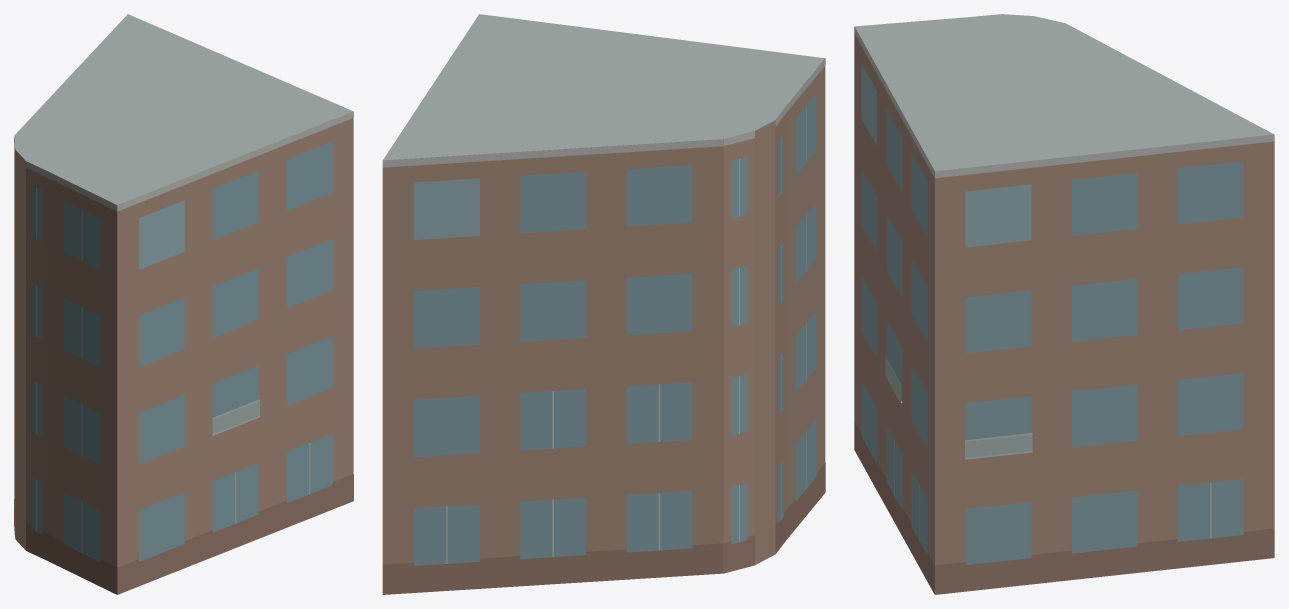
File: survey-upis-32790482.glb
3 views of the same model, side by side, from view 1: azimuth 30°, elevation 25°; view 2: azimuth 150°, elevation 25°; view 3: azimuth 270°, elevation 25° (orthographic). The views are drawn at different scales.
Parts seen in each view (by area): view 1: survey-upis-32790482.tmp; view 2: survey-upis-32790482.tmp; view 3: survey-upis-32790482.tmp.
Part boxes in pixels (x1,y1,x2,y2): survey-upis-32790482.tmp: [14, 14, 353, 594]; survey-upis-32790482.tmp: [382, 14, 825, 594]; survey-upis-32790482.tmp: [854, 14, 1274, 594].
Size of the model in its own units: 11.89 by 14.9 by 13.41.
